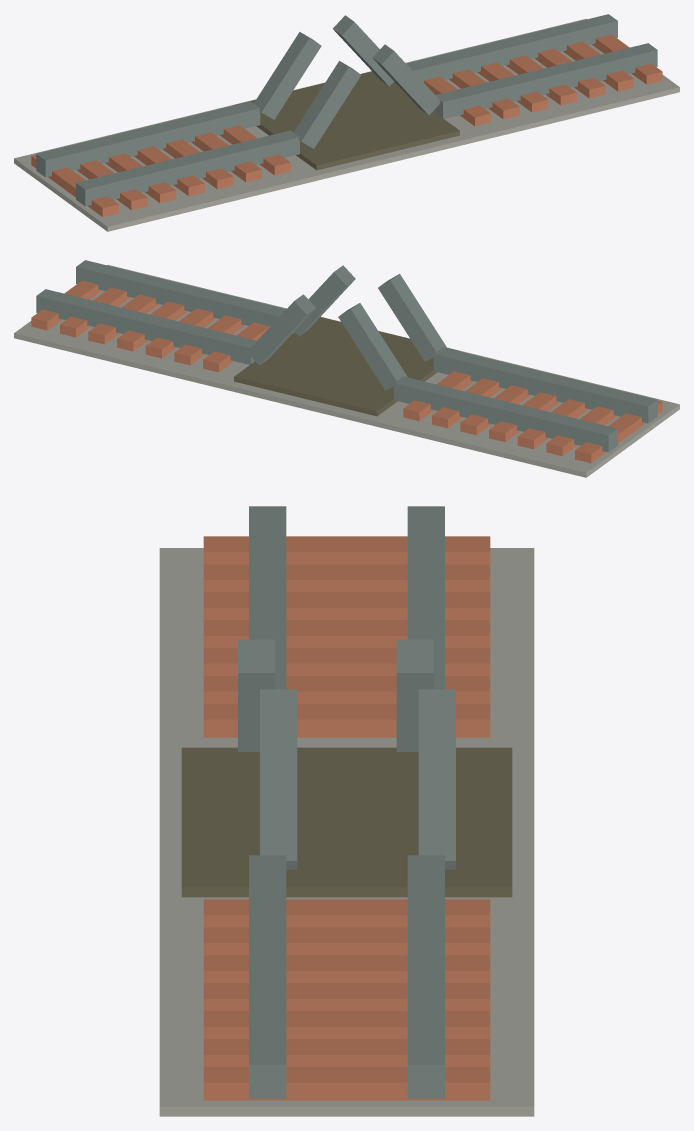
The model's file is SM_ViaRota_v0_Levantada_LOD1.fbx.
The picture shows the model from 3 angles, top to bottom: view 1: azimuth 30°, elevation 25°; view 2: azimuth 150°, elevation 25°; view 3: azimuth 270°, elevation 25°; orthographic projection. The views are drawn at different scales.
Parts seen in each view (by area): view 1: SM_aqui_paso_algo_v5_LOD1; view 2: SM_aqui_paso_algo_v5_LOD1; view 3: SM_aqui_paso_algo_v5_LOD1.
Part boxes in pixels (box(x1,y1,x2,y2)): SM_aqui_paso_algo_v5_LOD1: box(14, 14, 679, 231); SM_aqui_paso_algo_v5_LOD1: box(14, 260, 679, 477); SM_aqui_paso_algo_v5_LOD1: box(159, 506, 534, 1116).
Bounding box in the file's own units: 12 × 1.73 × 3.4.
